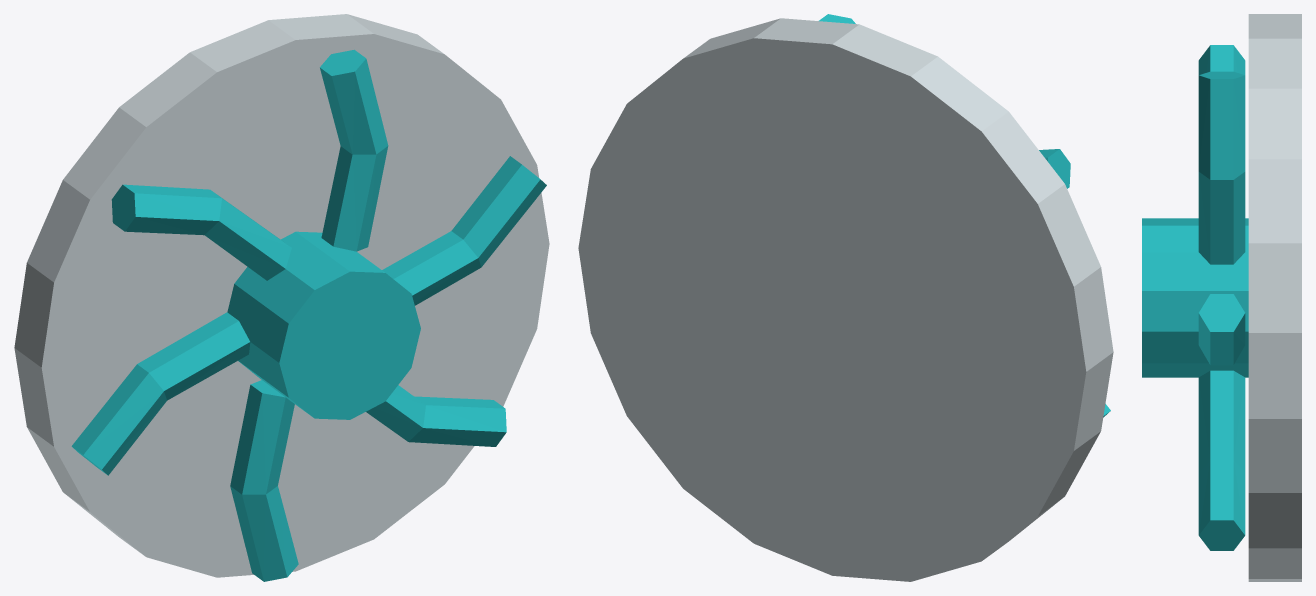
The model's file is AQUA-009.glb.
3 views of the same model, side by side, from view 1: azimuth 30°, elevation 25°; view 2: azimuth 150°, elevation 25°; view 3: azimuth 270°, elevation 25° (orthographic). The views are drawn at different scales.
Parts seen in each view (by area): view 1: AQUA-009; view 2: AQUA-009; view 3: AQUA-009.
Part boxes in pixels (x1,y1,x2,y2): AQUA-009: [14, 14, 549, 581]; AQUA-009: [578, 14, 1113, 581]; AQUA-009: [1142, 14, 1301, 581].
Bounding box in the file's own units: 0.86 × 0.86 × 0.24.
